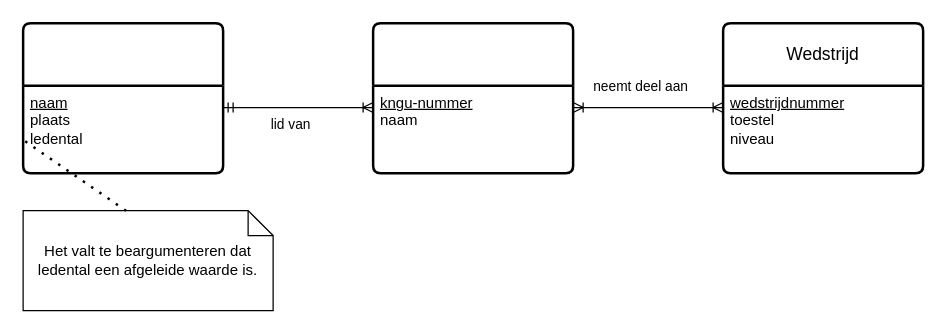
The diagram is 945 pixels wide and 333 high, and some of its shapes have lost their labels. The shapes that lost their labels are listed below. From the top down, each one's box as (x1, y1, x2, y2) in pixels, then its label:
(21, 21, 224, 174): Club
(371, 21, 574, 174): Turner
